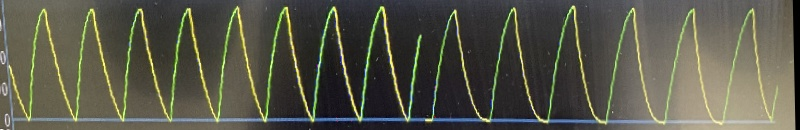normal_volume: (13, 0, 788, 127)
